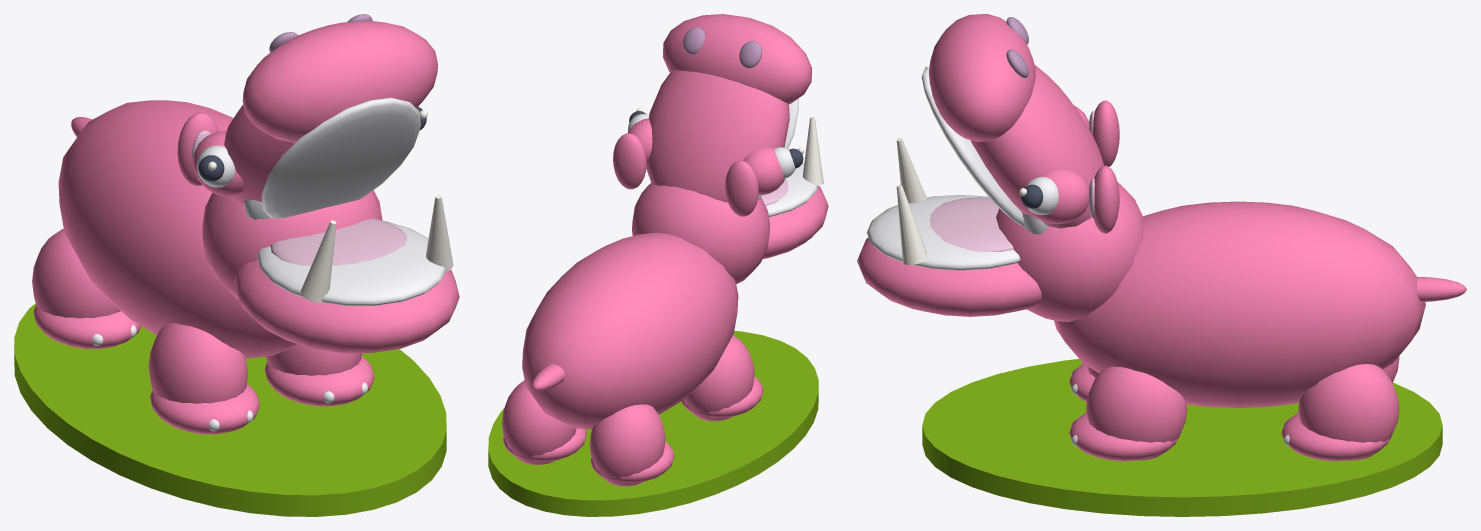
The model's file is dash-hippo.glb.
3 views of the same model, side by side, from view 1: azimuth 30°, elevation 25°; view 2: azimuth 150°, elevation 25°; view 3: azimuth 270°, elevation 25° (orthographic). The views are drawn at different scales.
Visible parts, largest first — view 1: hippo_body, hippo_head; view 2: hippo_body, hippo_head; view 3: hippo_body, hippo_head.
Boxes of the visible parts, x1=… form: hippo_body: x1=14, y1=100, x2=446, y2=516; hippo_head: x1=177, y1=14, x2=459, y2=353; hippo_body: x1=488, y1=232, x2=818, y2=516; hippo_head: x1=613, y1=14, x2=828, y2=283; hippo_body: x1=922, y1=201, x2=1466, y2=516; hippo_head: x1=857, y1=14, x2=1144, y2=321.
Bounding box in the file's own units: 0.142 × 0.1904 × 0.253.
